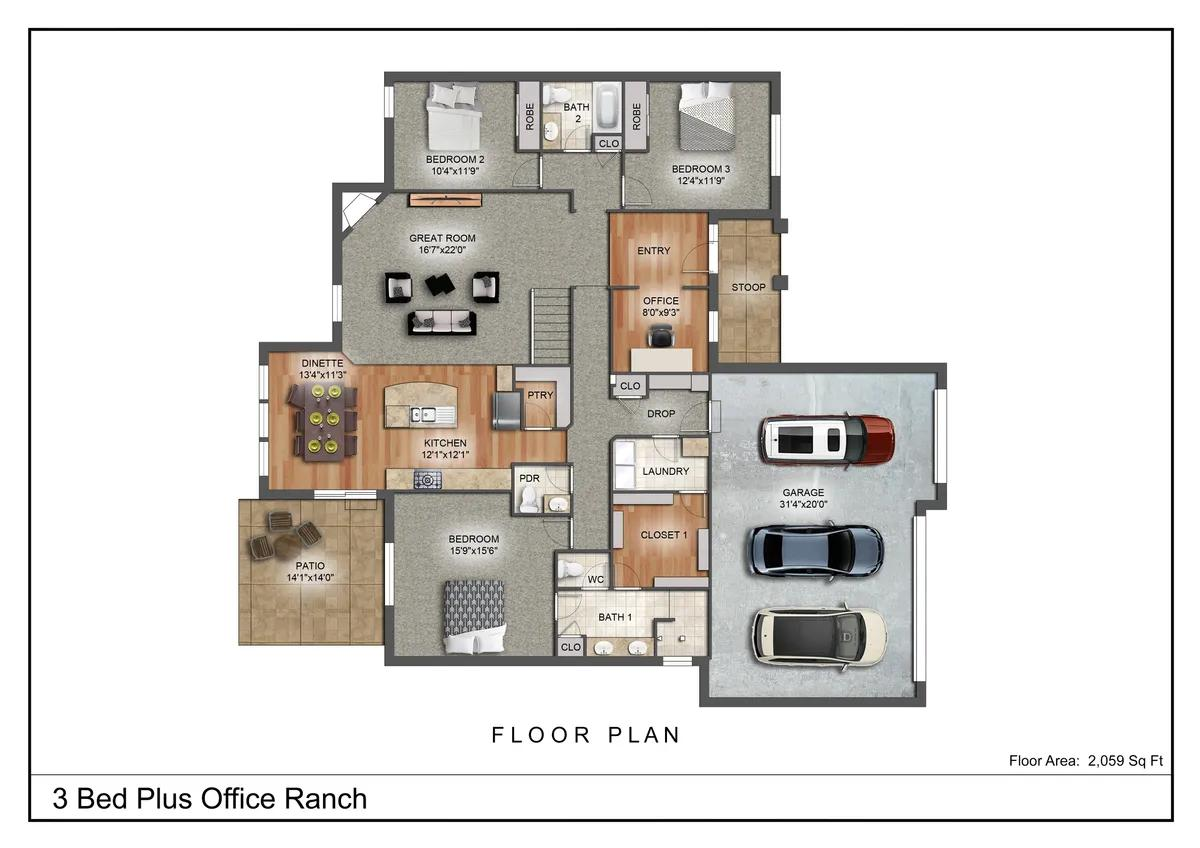room: (263, 347, 574, 492), (337, 186, 573, 347), (387, 492, 557, 660), (624, 79, 775, 211), (389, 78, 541, 190), (557, 588, 709, 657), (612, 491, 710, 589), (613, 287, 713, 373), (542, 79, 624, 150), (612, 436, 710, 491), (514, 464, 572, 515), (556, 551, 611, 587)
